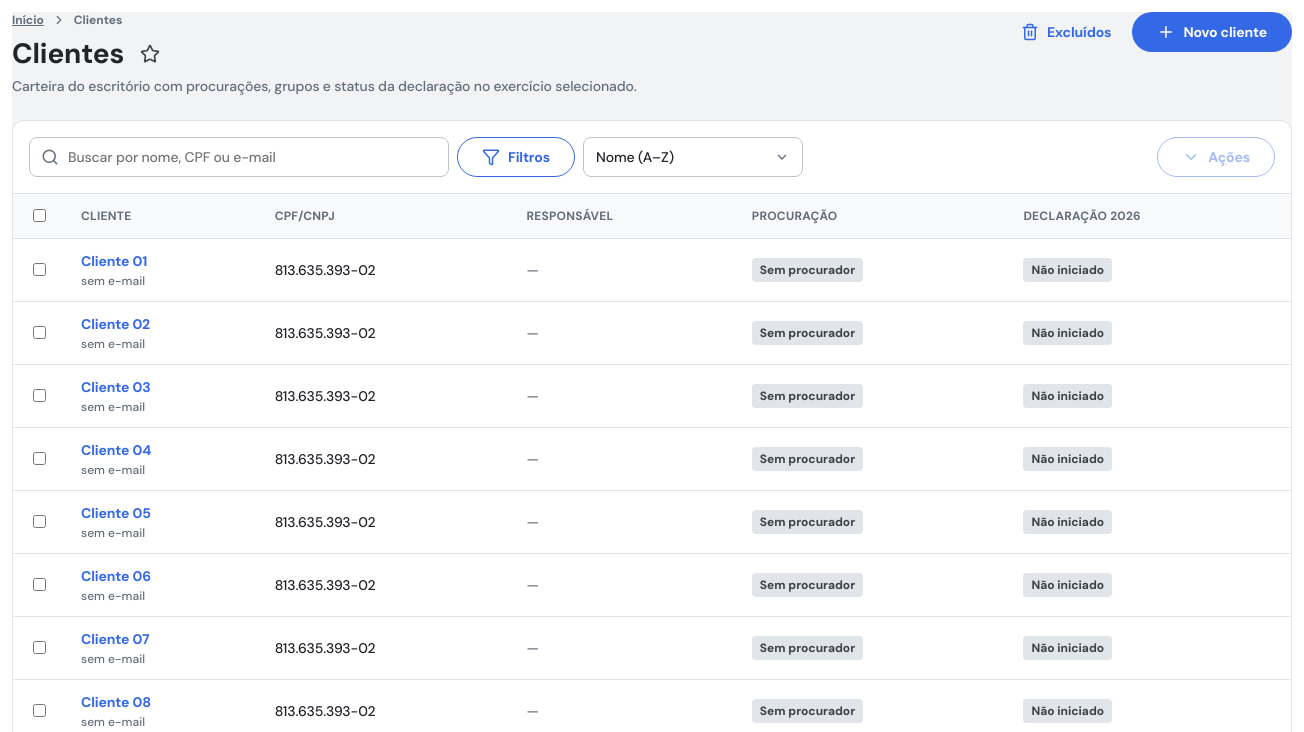
Test case: lista de clientes: erro, seleção de todos e endereço › desmarcar um cliente desfaz "todos os resultados" e mantém os outros da página
Click the checkbox named "Selecionar todos da página". click: (40,216)
box: [33,209,46,222]
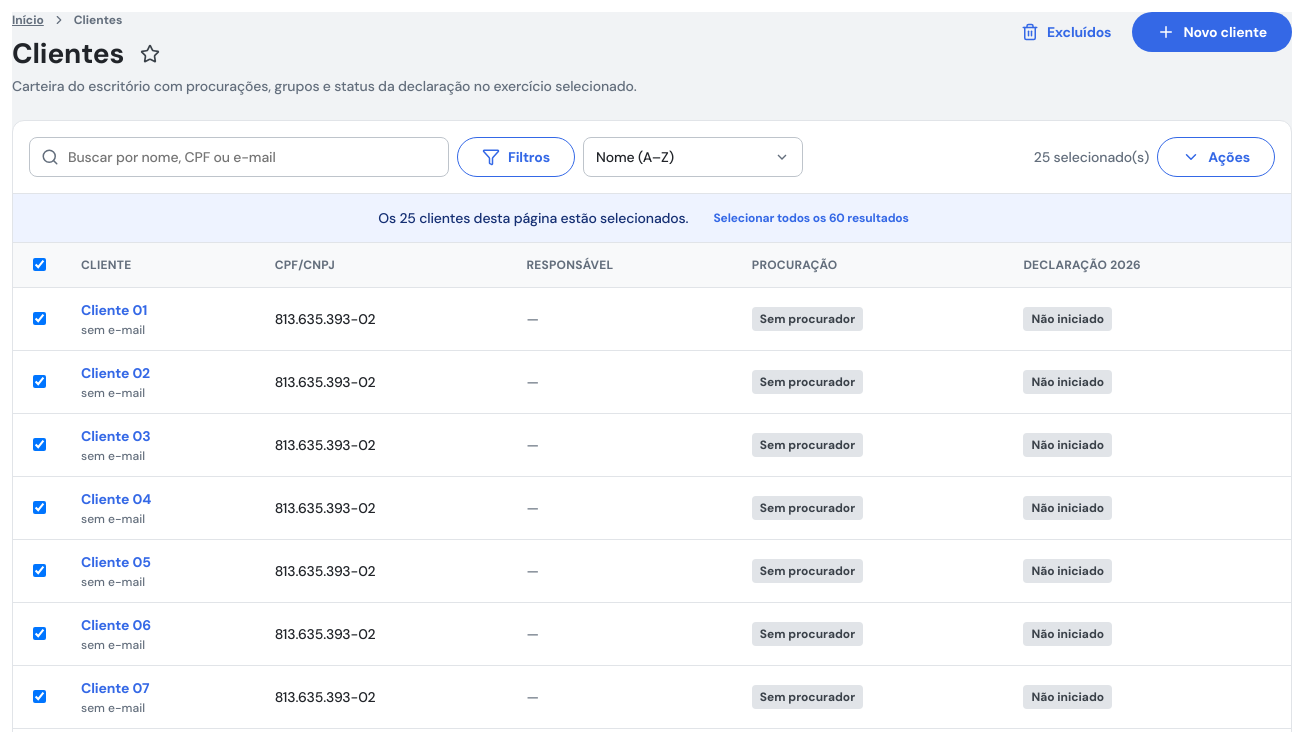
Click the button "Selecionar todos os 60 resultados". click: (811,218)
box: [696,202,926,234]
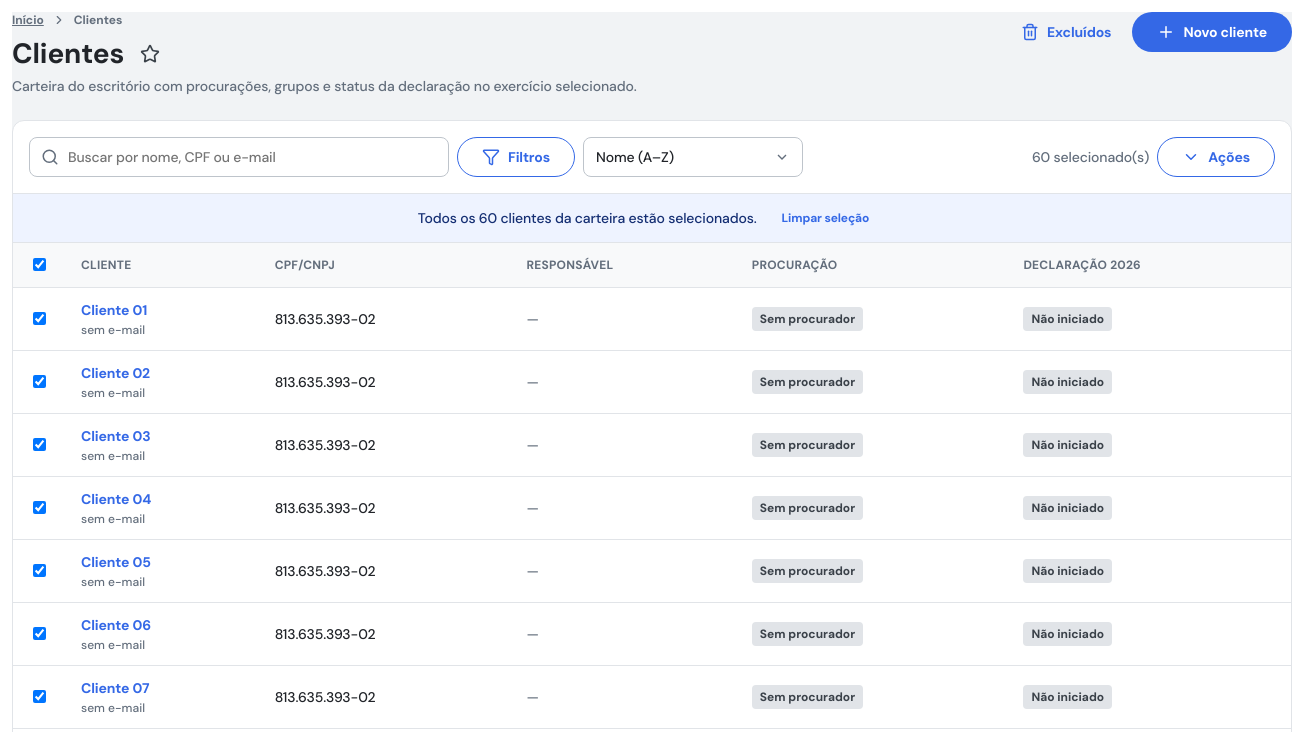
Click the checkbox named "Selecionar Cliente 03". click: (40,444)
box: [33,438,46,450]
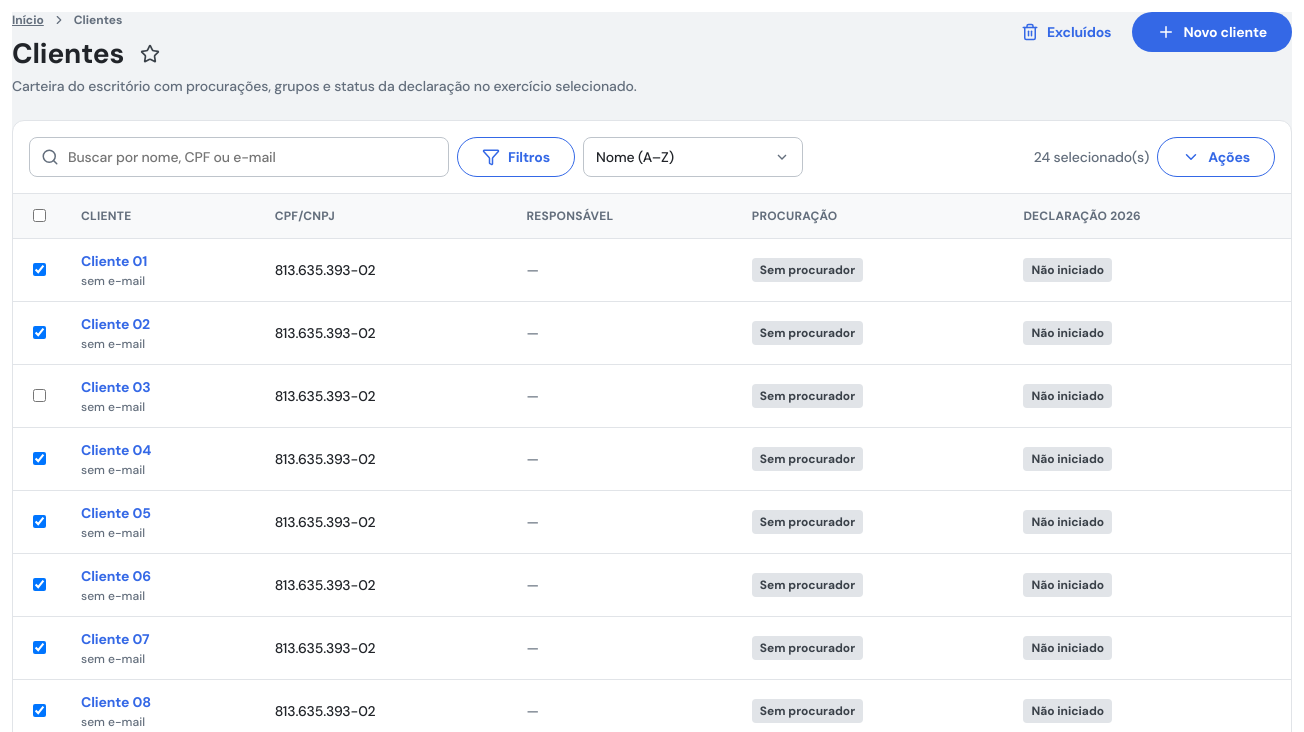
Expected: the checkbox named "Selecionar Cliente 03" is not checked, [33,388,46,402]
Expected: the text "24 selecionado(s)" is shown, [1034,147,1149,167]
Expected: the text "Todos os 60 clientes" is gone
